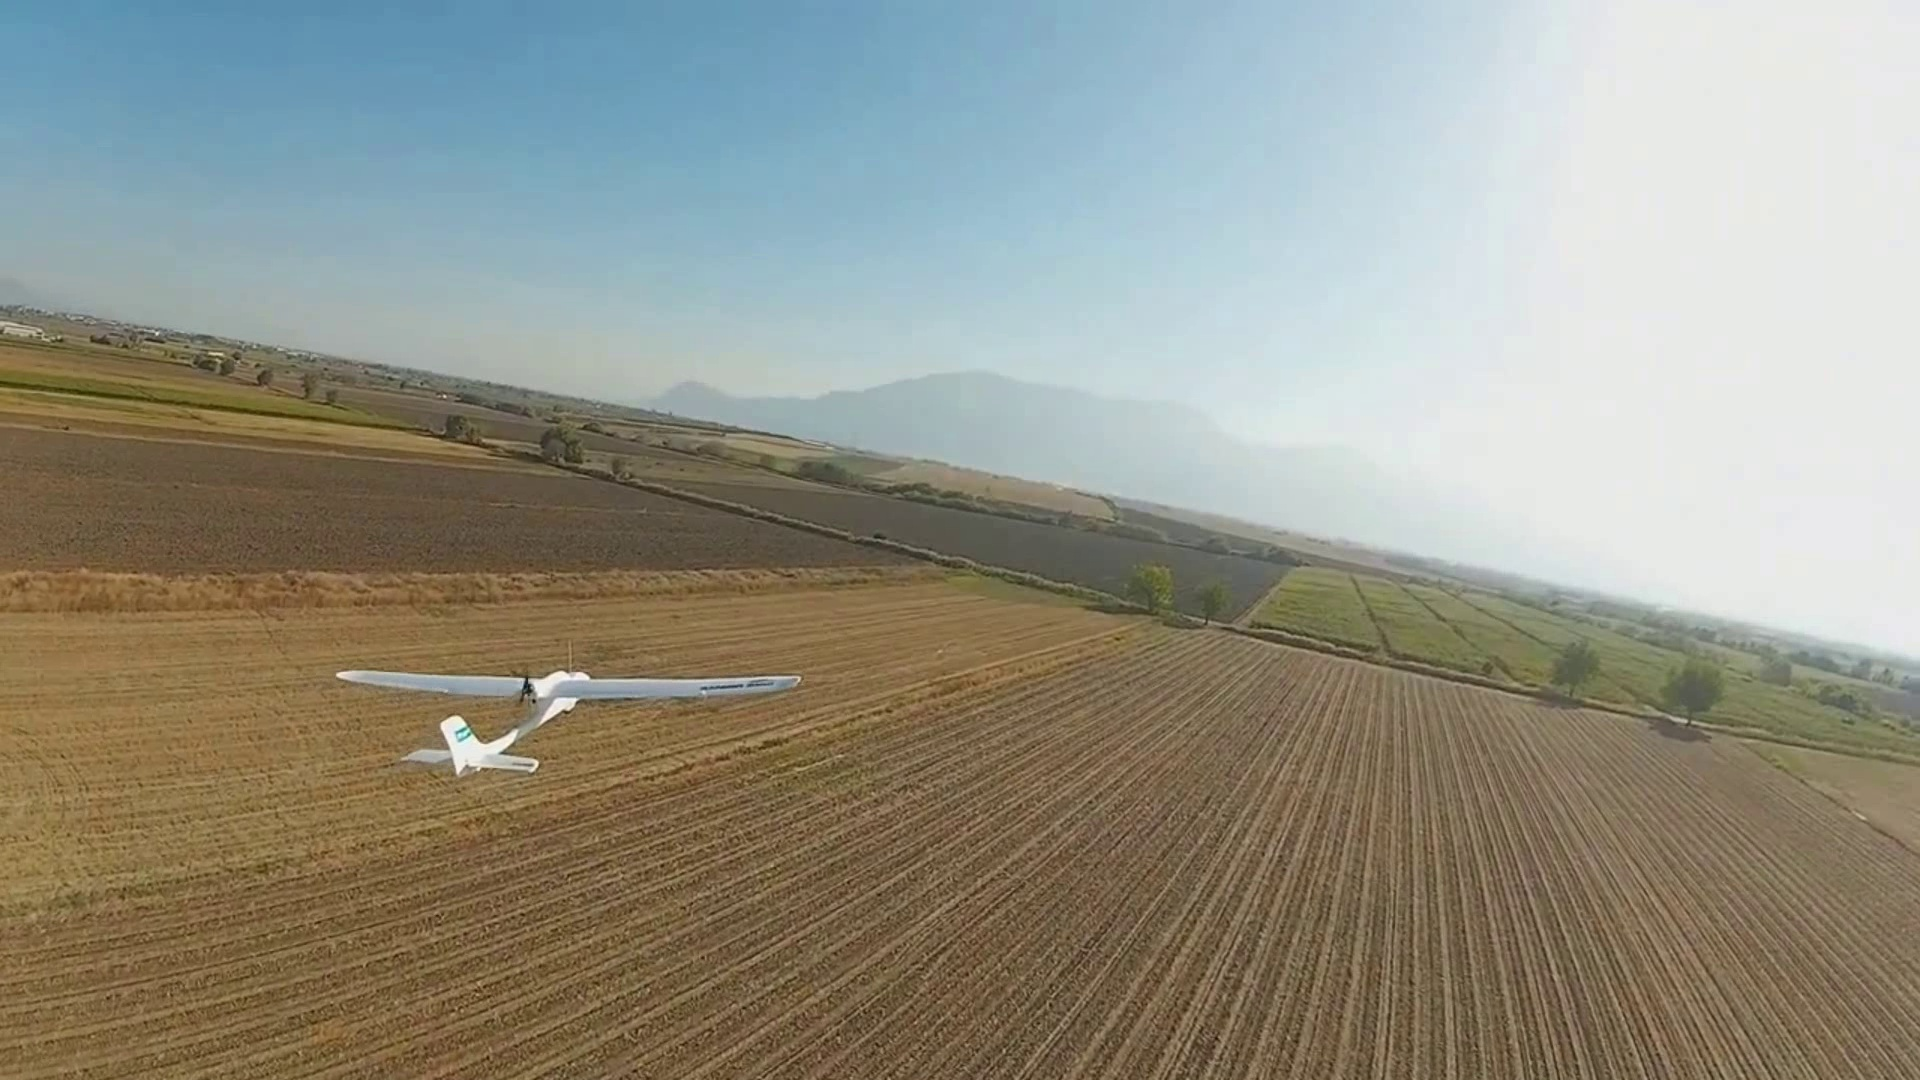airplane: (335, 663, 800, 777)
